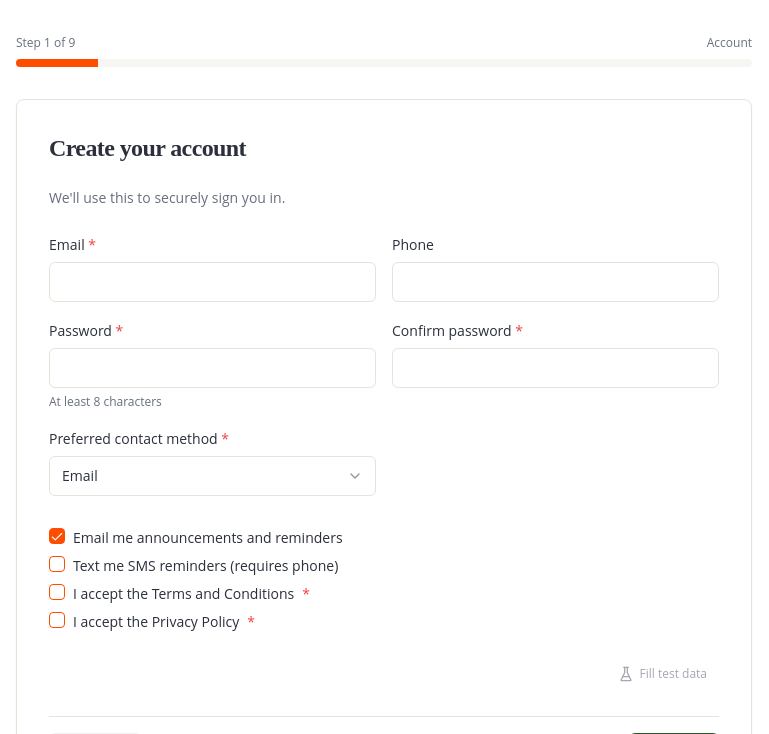
Scenario: MemberSignupWizard — step 0 (Account) › advances to step 2 once all required fields and consent are provided
Type "jane@example.com" into the 1st field.
click(212, 282); type("jane@example.com")  # box [49,262,376,302]
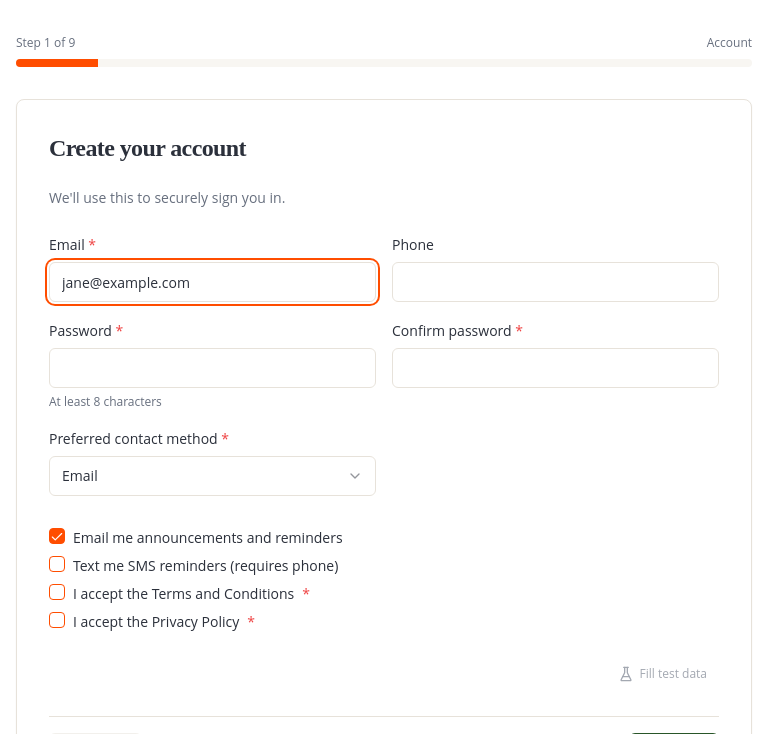
Type "password123" into the 1st password field.
click(212, 368); type("password123")  # box [49,348,376,388]
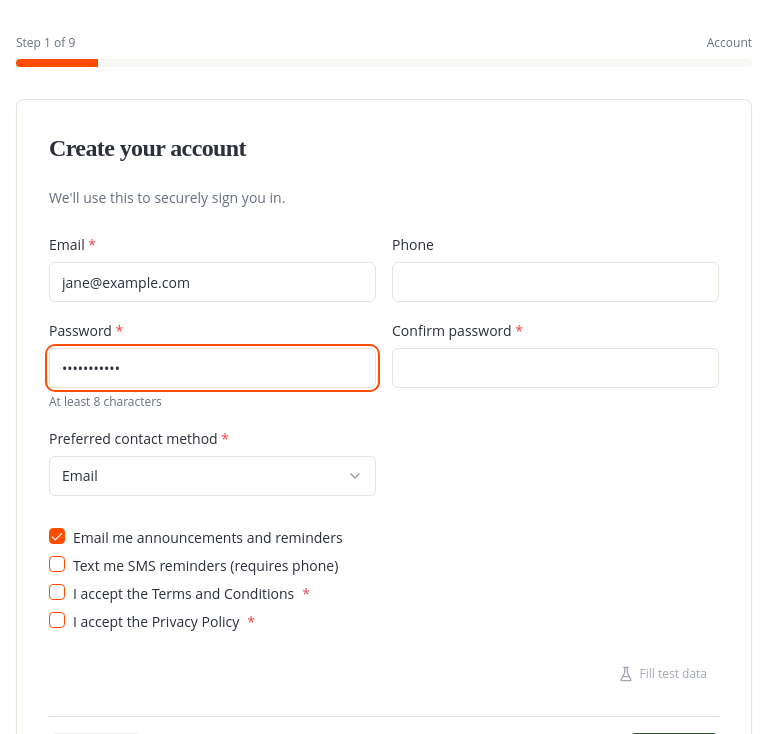
Type "password123" into the password field below "Confirm password".
click(556, 368); type("password123")  # box [392,348,719,388]
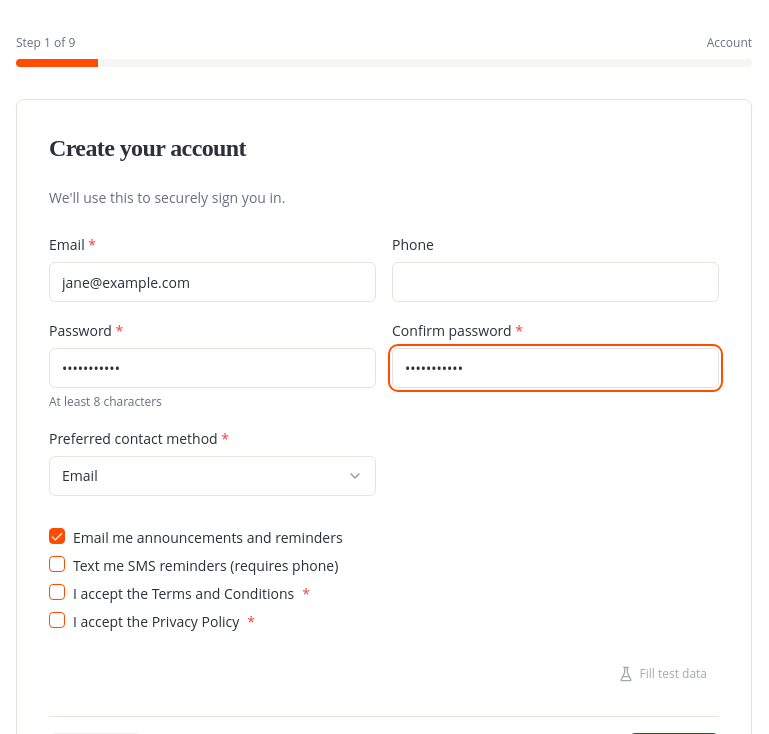
Click the checkbox named "accept the terms and conditions" next to "I accept the Terms and Conditions".
click(57, 592)  # box [49,584,65,600]
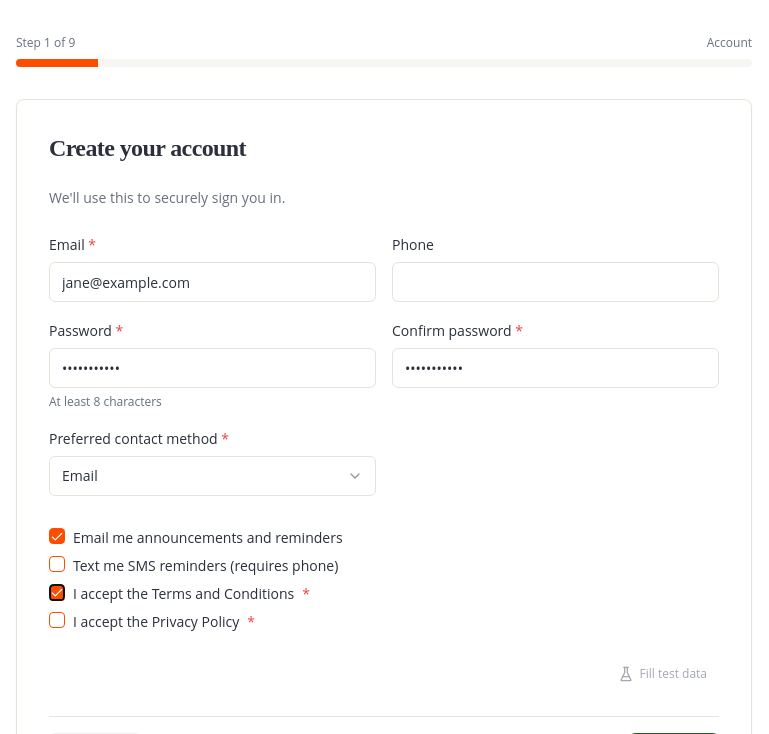
Click the checkbox named "accept the privacy policy" next to "I accept the Privacy Policy".
click(57, 620)  # box [49,612,65,628]
(page scrolled)
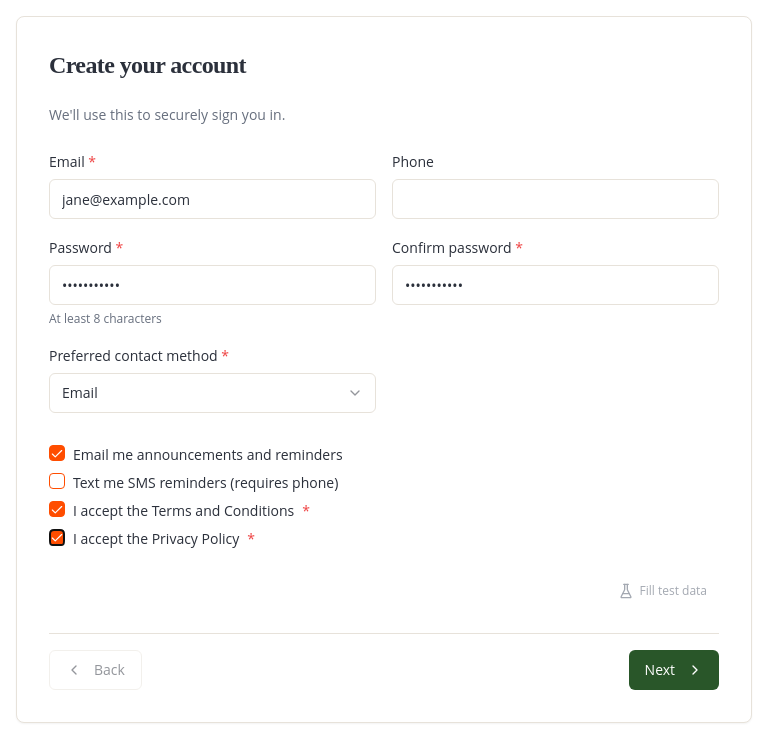
Click the button "Next".
click(674, 670)  # box [629,650,719,690]
(page scrolled)
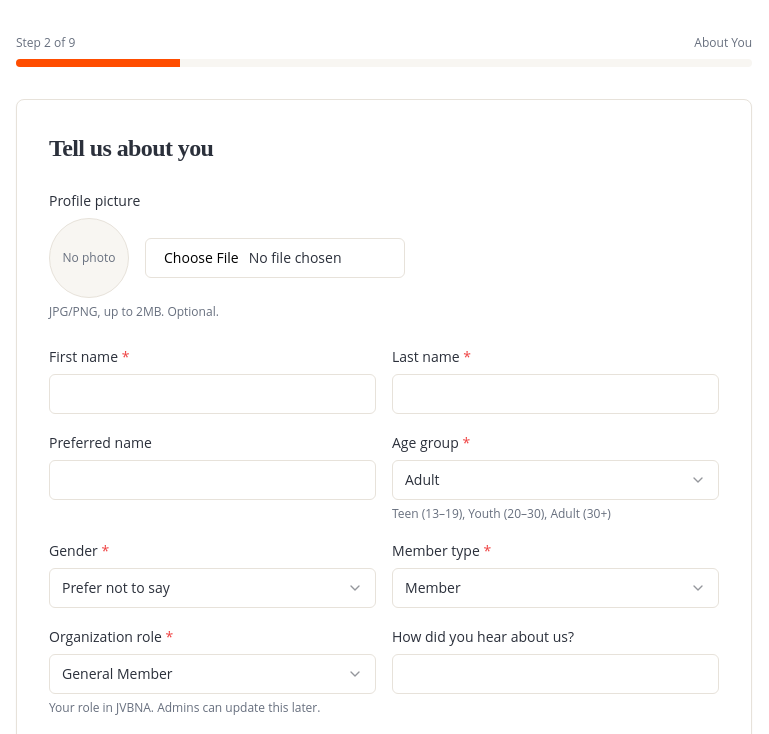
Check: the heading "Tell us about you" is shown, box [49,135,213,161]
Check: the text "Step 2 of 9" is shown, box [16,35,75,51]
